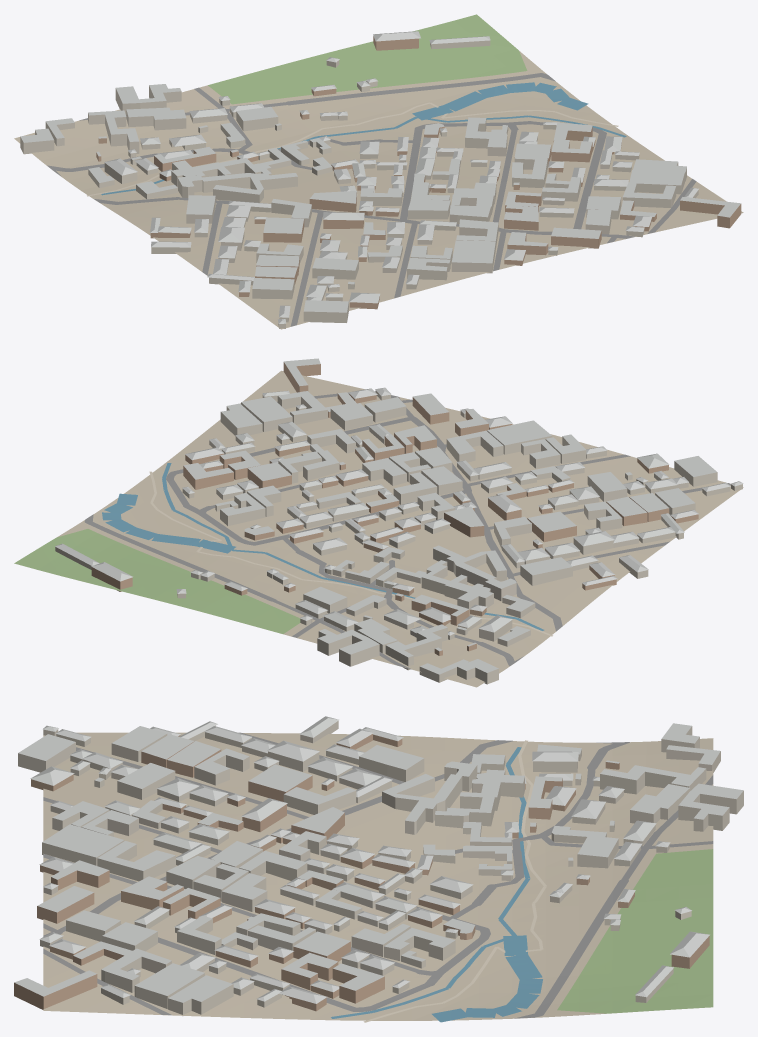
File: bolak_8_-5.glb
3 renders of one model, top to bottom at view 1: azimuth 30°, elevation 25°; view 2: azimuth 150°, elevation 25°; view 3: azimuth 270°, elevation 25°, orthographic. The views are drawn at different scales.
Visible parts, largest first — view 1: Yer_Tuproq-col, Tom_Shifer, Devor_Suvoq-col, Yer_Maysa, Yol_Mahalla-col, Devor_Gisht-col, Suv, Yol_Piyoda; view 2: Yer_Tuproq-col, Tom_Shifer, Devor_Suvoq-col, Devor_Gisht-col, Yer_Maysa, Yol_Mahalla-col, Suv, Yol_Piyoda; view 3: Tom_Shifer, Yer_Tuproq-col, Devor_Suvoq-col, Yer_Maysa, Devor_Gisht-col, Yol_Mahalla-col, Suv, Yol_Piyoda.
Boxes of the visible parts, bbox=[...] form: Yer_Tuproq-col: bbox=[14, 51, 743, 329]; Tom_Shifer: bbox=[20, 31, 740, 323]; Devor_Suvoq-col: bbox=[20, 40, 698, 328]; Yer_Maysa: bbox=[208, 14, 527, 104]; Yol_Mahalla-col: bbox=[47, 73, 696, 326]; Devor_Gisht-col: bbox=[96, 36, 741, 309]; Suv: bbox=[101, 82, 626, 195]; Yol_Piyoda: bbox=[87, 102, 618, 196]; Yer_Tuproq-col: bbox=[57, 370, 743, 687]; Tom_Shifer: bbox=[55, 358, 743, 674]; Devor_Suvoq-col: bbox=[55, 390, 742, 684]; Devor_Gisht-col: bbox=[91, 362, 698, 655]; Yer_Maysa: bbox=[14, 529, 300, 633]; Yol_Mahalla-col: bbox=[84, 391, 730, 669]; Suv: bbox=[102, 463, 544, 630]; Yol_Piyoda: bbox=[149, 471, 552, 636]; Tom_Shifer: bbox=[14, 716, 743, 1003]; Yer_Tuproq-col: bbox=[43, 732, 713, 1020]; Devor_Suvoq-col: bbox=[18, 721, 743, 1014]; Yer_Maysa: bbox=[557, 849, 713, 1013]; Devor_Gisht-col: bbox=[14, 734, 709, 1011]; Yol_Mahalla-col: bbox=[43, 732, 713, 1018]; Suv: bbox=[331, 747, 542, 1022]; Yol_Piyoda: bbox=[363, 740, 546, 1022].
Size of what is drawn, in the model's own units: 418 by 20.35 by 436.
